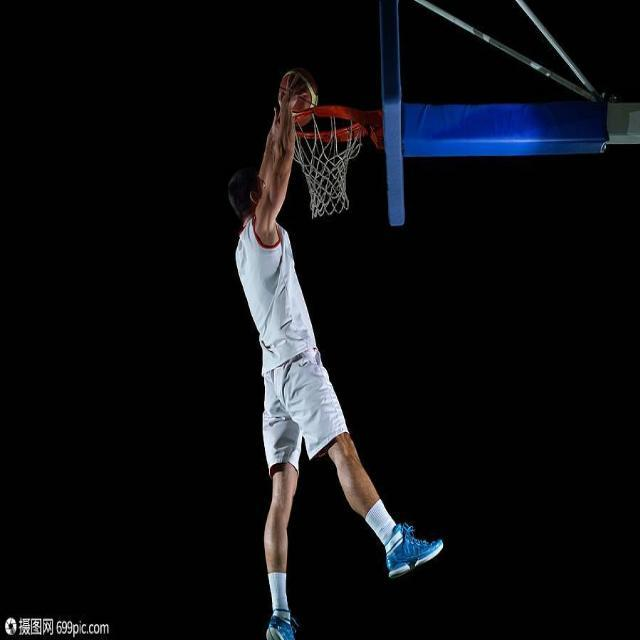rim: (279, 68, 318, 125)
